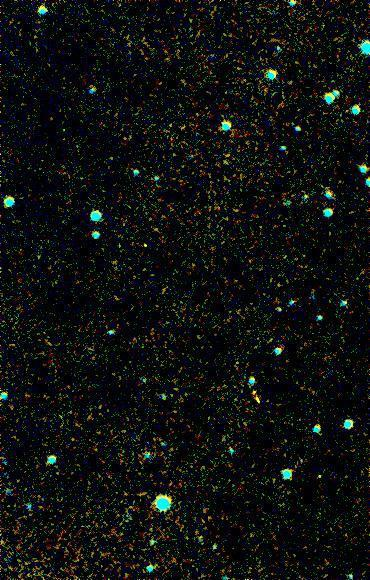star: (131, 233, 161, 263)
